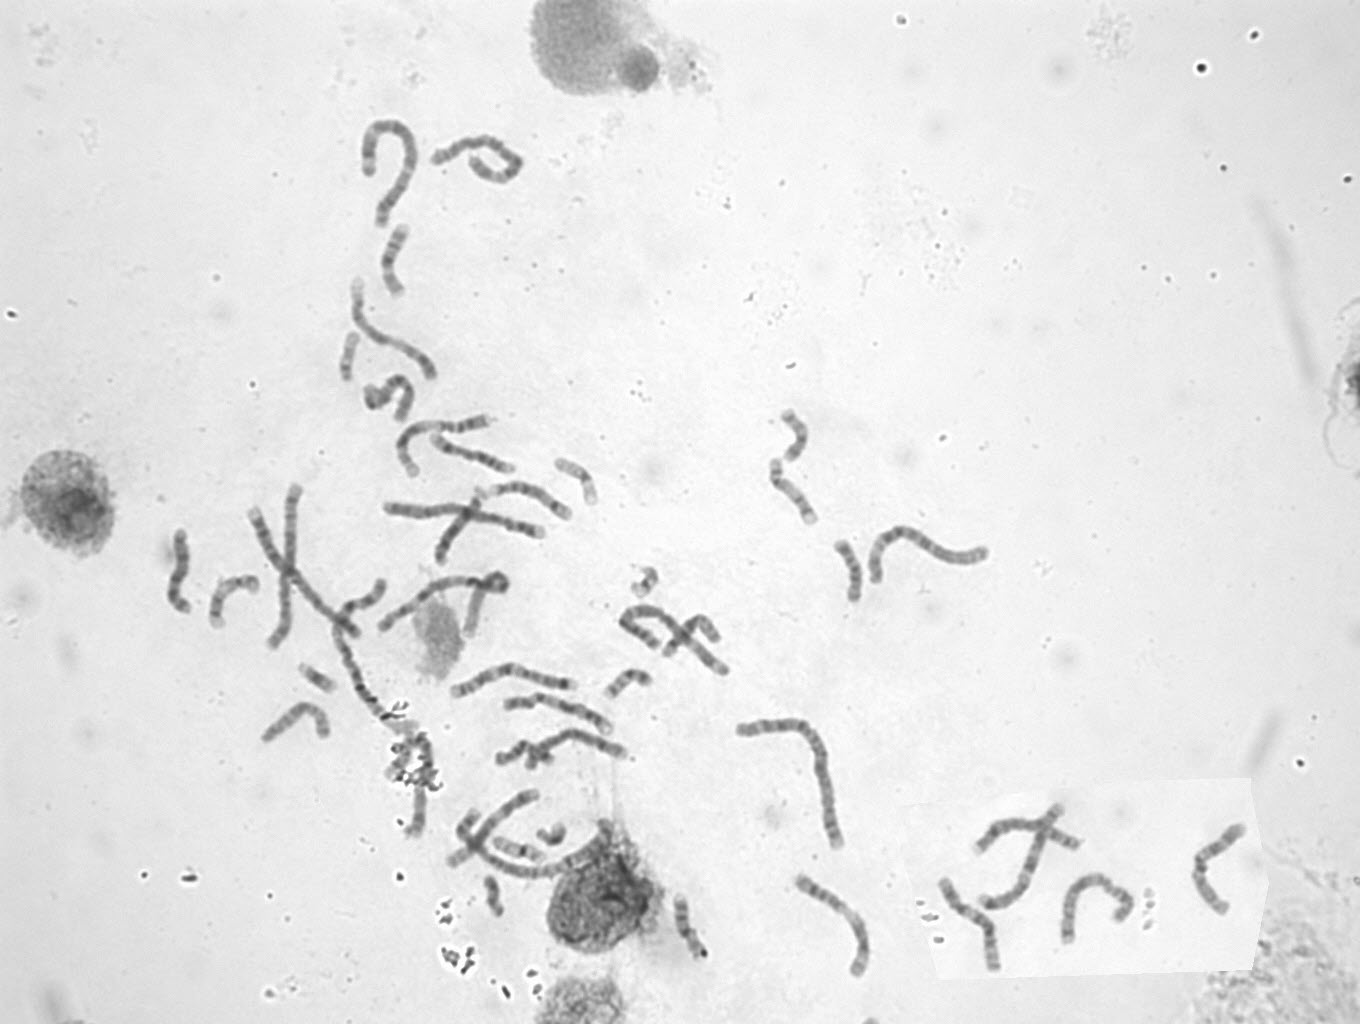chromosomes: (731, 711, 854, 855), (240, 503, 368, 641), (331, 577, 407, 738), (450, 806, 620, 877), (979, 798, 1072, 919), (350, 278, 448, 390), (791, 870, 876, 984), (377, 573, 514, 643), (616, 600, 734, 680), (374, 497, 557, 545), (867, 524, 997, 591), (442, 786, 546, 868), (930, 873, 1011, 976), (264, 480, 307, 660), (395, 410, 503, 480), (358, 114, 421, 228), (1048, 870, 1139, 950), (1191, 817, 1251, 918), (440, 663, 581, 705), (507, 689, 622, 739), (965, 817, 1088, 862), (522, 730, 638, 777), (470, 478, 577, 527), (430, 136, 536, 184), (426, 430, 522, 480), (763, 460, 821, 534), (201, 569, 267, 634), (164, 524, 206, 623), (667, 894, 718, 973), (431, 496, 484, 573), (253, 700, 334, 744), (829, 529, 873, 611), (403, 728, 434, 843), (366, 369, 417, 430), (660, 613, 724, 660), (552, 455, 604, 510), (382, 221, 415, 299), (493, 737, 560, 771), (488, 833, 549, 866), (297, 659, 345, 700), (779, 406, 812, 465), (334, 330, 366, 386), (602, 667, 656, 699), (478, 869, 509, 922), (629, 564, 664, 599), (536, 822, 573, 848)
